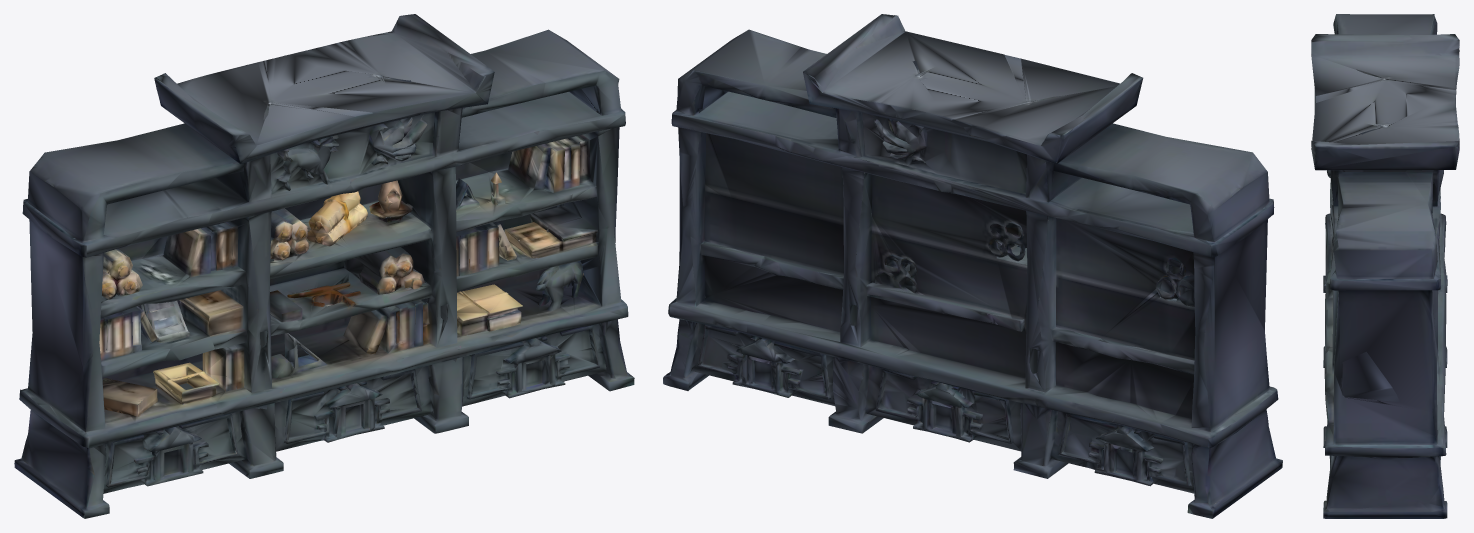
File: ss_xuetang.glb
3 renders of one model, left to right at view 1: azimuth 30°, elevation 25°; view 2: azimuth 150°, elevation 25°; view 3: azimuth 270°, elevation 25°, orthographic. The views are drawn at different scales.
Parts seen in each view (by area): view 1: tripo_node_b33fbd20-aa2e-4a25-ac5e-3b3bcb7f5768; view 2: tripo_node_b33fbd20-aa2e-4a25-ac5e-3b3bcb7f5768; view 3: tripo_node_b33fbd20-aa2e-4a25-ac5e-3b3bcb7f5768.
Part boxes in pixels (x1,y1,x2,y2): tripo_node_b33fbd20-aa2e-4a25-ac5e-3b3bcb7f5768: (14, 14, 634, 518); tripo_node_b33fbd20-aa2e-4a25-ac5e-3b3bcb7f5768: (663, 14, 1282, 518); tripo_node_b33fbd20-aa2e-4a25-ac5e-3b3bcb7f5768: (1311, 14, 1459, 518).
Size of the model in its own units: 0.9998 by 0.6117 by 0.2649.
1 material, 1 textured.
